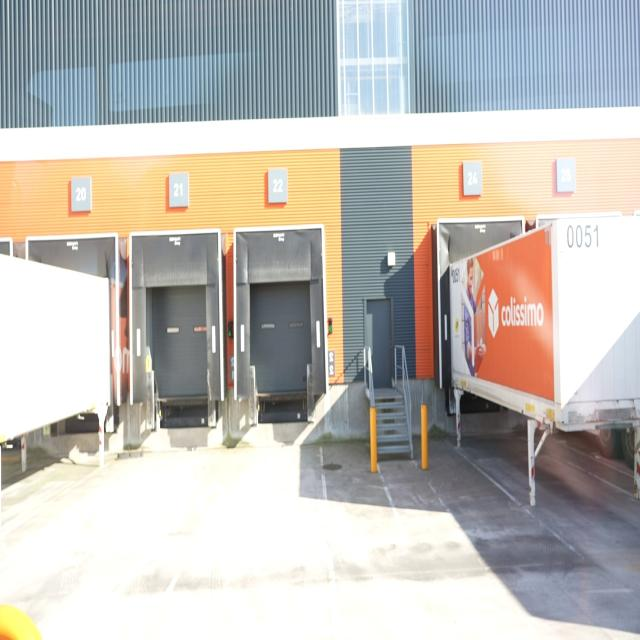Code: (561, 218, 606, 255)
